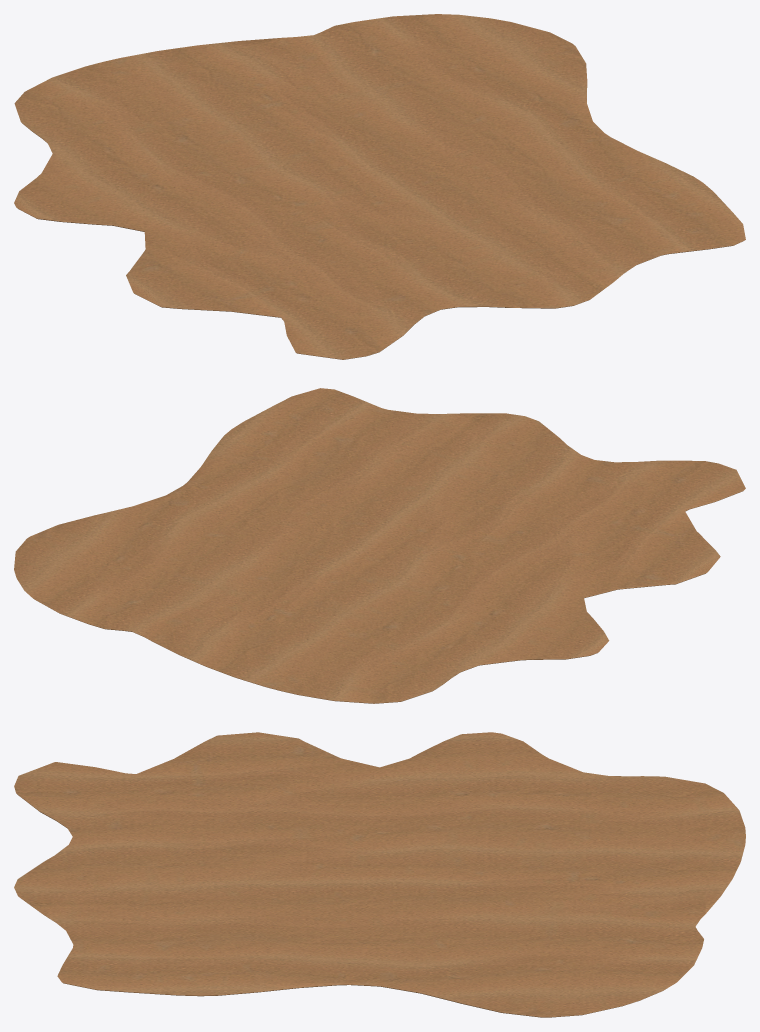
File: Sand07.fbx
3 renders of one model, top to bottom at view 1: azimuth 30°, elevation 25°; view 2: azimuth 150°, elevation 25°; view 3: azimuth 270°, elevation 25°, orthographic. The views are drawn at different scales.
Visible parts, largest first — view 1: Sand07; view 2: Sand07; view 3: Sand07.
Boxes of the visible parts, x1=… form: Sand07: x1=14, y1=14, x2=745, y2=359; Sand07: x1=14, y1=388, x2=745, y2=703; Sand07: x1=14, y1=732, x2=745, y2=1017.
Size of the model in its own units: 575 by 1.55 by 625.
